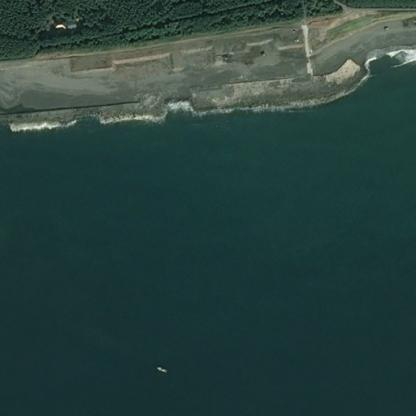ship: (150, 362, 172, 376)
